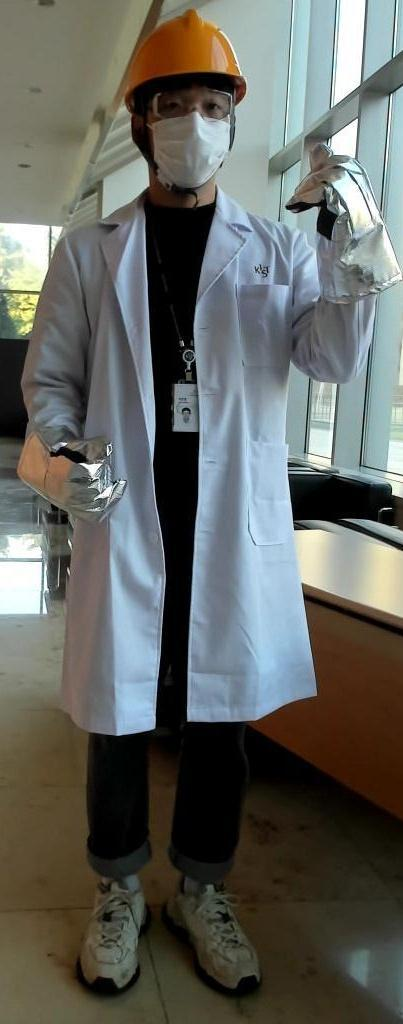lab_coat: (110, 230, 302, 723)
